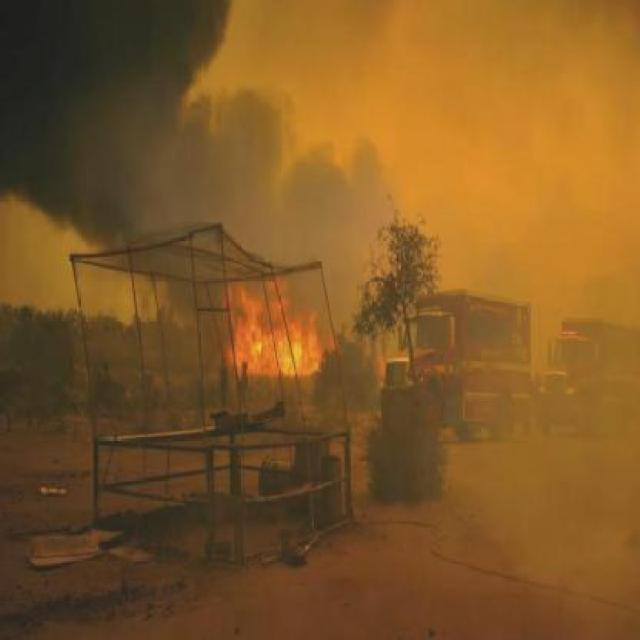Fire: (214, 234, 334, 402)
Smoke: (109, 0, 640, 557), (7, 8, 376, 260)
